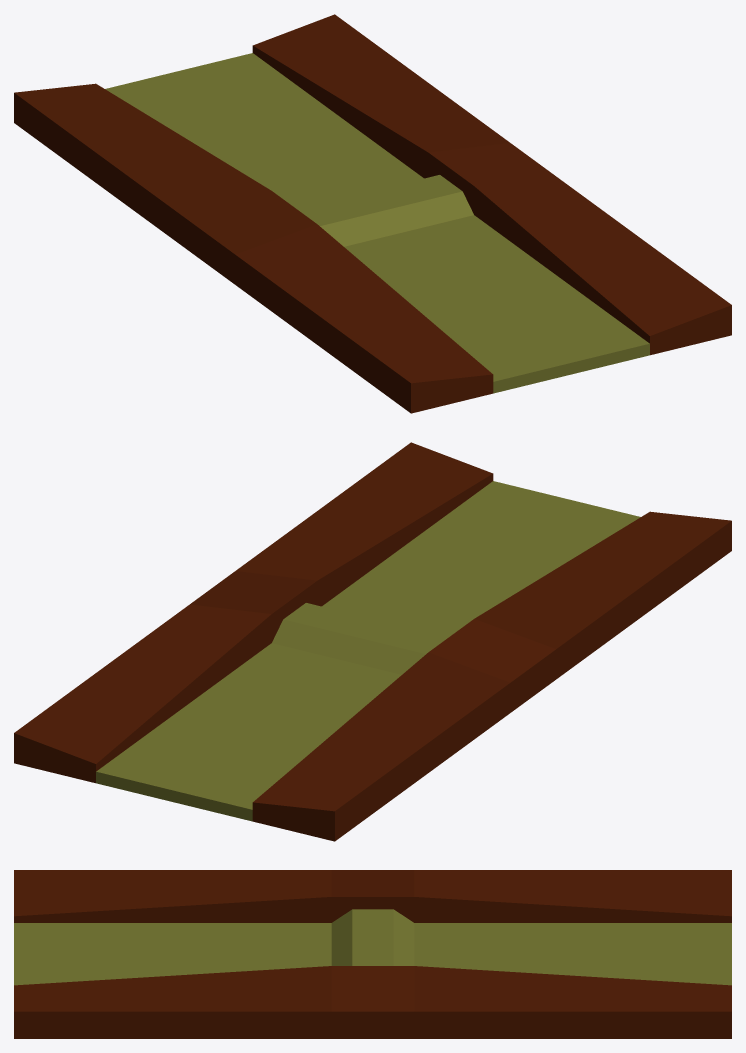
The model's file is Bump.fbx.
The picture shows the model from 3 angles, top to bottom: view 1: azimuth 30°, elevation 25°; view 2: azimuth 150°, elevation 25°; view 3: azimuth 270°, elevation 25°; orthographic projection. The views are drawn at different scales.
Visible parts, largest first — view 1: Bump; view 2: Bump; view 3: Bump.
Part boxes in pixels (left/top/right/bottom): Bump: left=14, top=14, right=731, bottom=413; Bump: left=14, top=442, right=731, bottom=841; Bump: left=14, top=870, right=731, bottom=1038.
Size of the model in its own units: 2867 by 6147 by 347.
